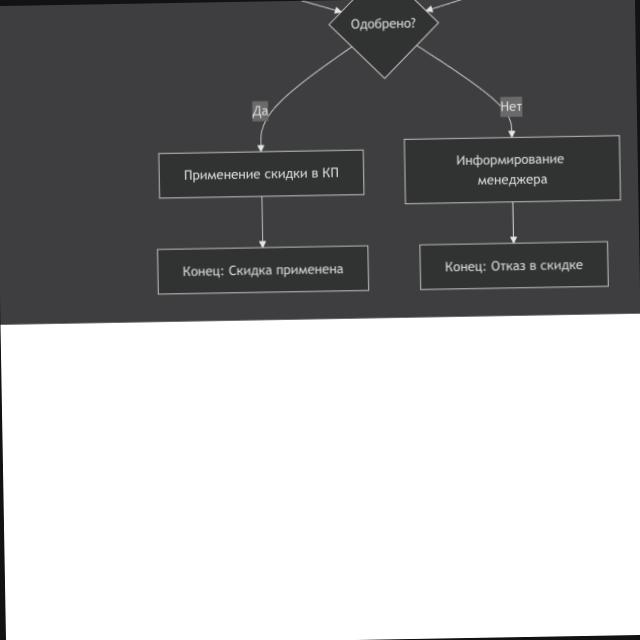arrow: (255, 49, 355, 150), (416, 43, 515, 138), (253, 196, 270, 247), (506, 202, 522, 242)
rectangle: (404, 135, 620, 204), (158, 246, 369, 294), (159, 150, 364, 198), (419, 242, 608, 290)
text_region: (494, 99, 530, 113), (246, 104, 273, 118)
